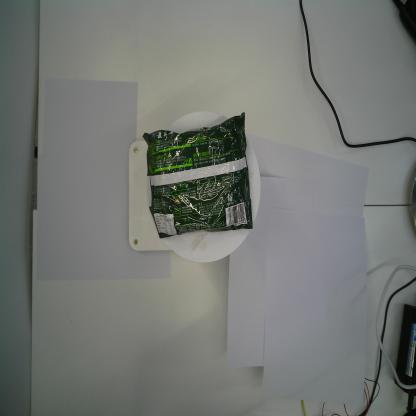Instant Noodles: (141, 110, 254, 242)
